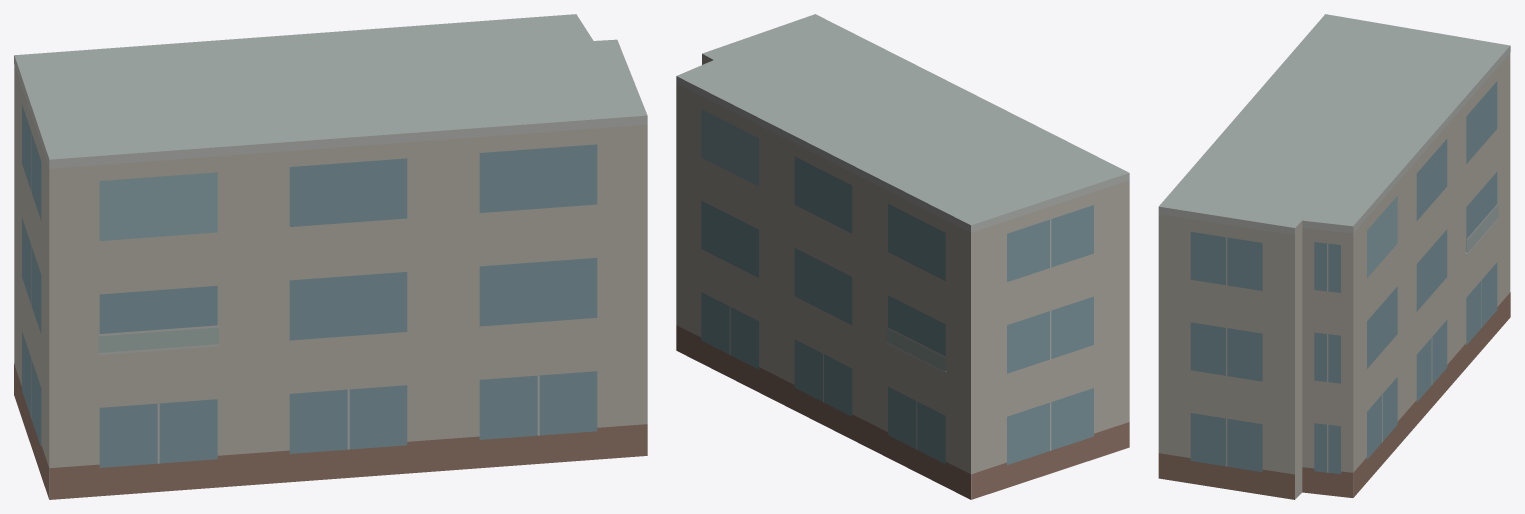
Rendered from survey-upis-32574476.glb.
3 views of the same model, side by side, from view 1: azimuth 30°, elevation 25°; view 2: azimuth 150°, elevation 25°; view 3: azimuth 270°, elevation 25° (orthographic). The views are drawn at different scales.
Visible parts, largest first — view 1: survey-upis-32574476.tmp; view 2: survey-upis-32574476.tmp; view 3: survey-upis-32574476.tmp.
Part boxes in pixels (box(x1,y1,x2,y2)): survey-upis-32574476.tmp: box(14, 14, 647, 499); survey-upis-32574476.tmp: box(676, 14, 1129, 499); survey-upis-32574476.tmp: box(1158, 14, 1510, 499).
Size of the model in its own units: 15.46 by 9.15 by 10.74.
